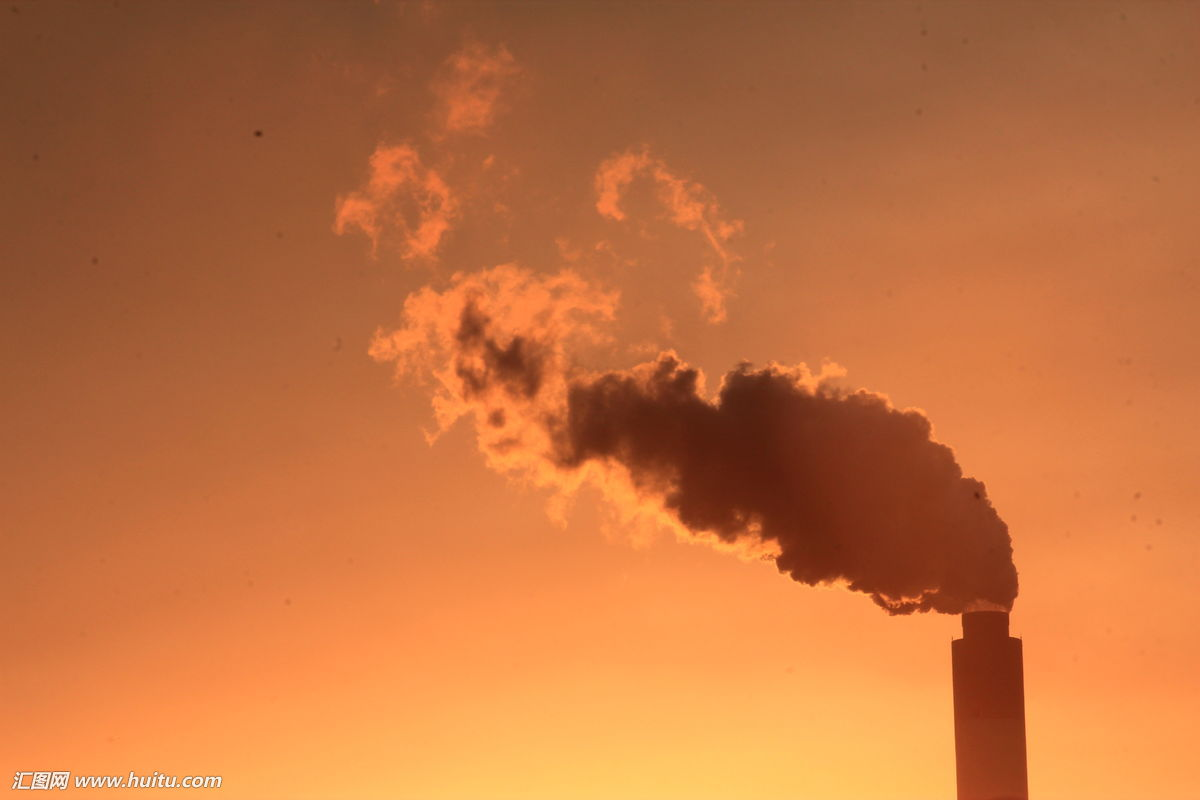dust: (529, 348, 1049, 636)
